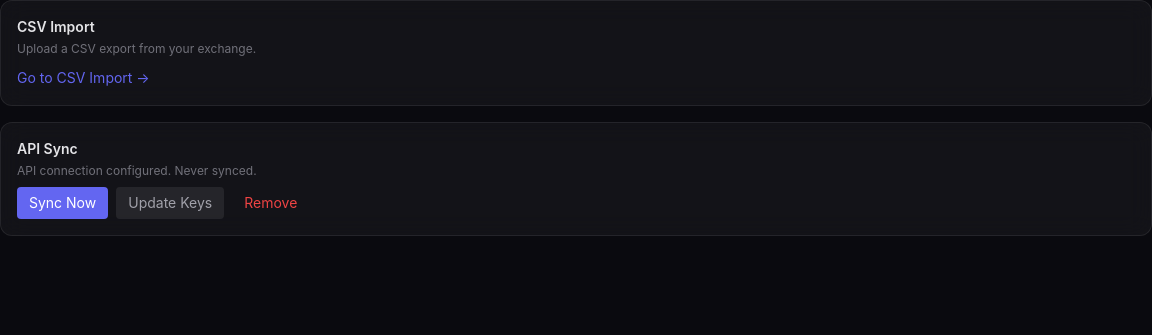
Test: WalletImportSync › syncs exchange and shows result
Click the button "Sync Now".
click(63, 203)  # box top-left (17, 187), bottom-right (108, 219)
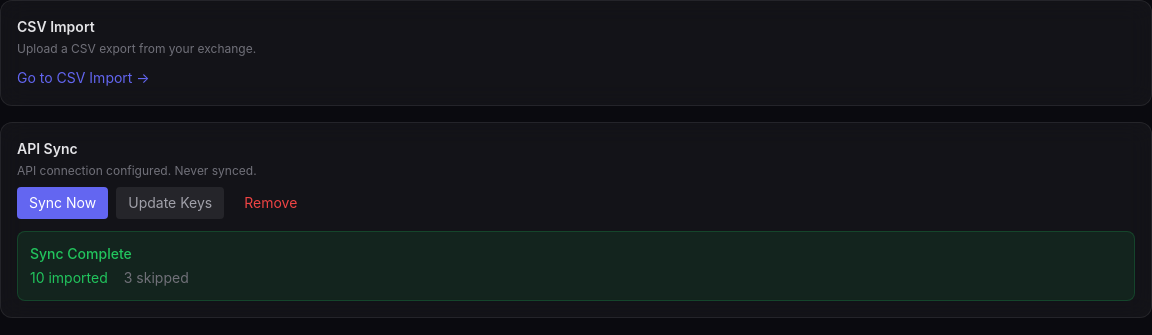
Now the text "Sync Complete" is shown, box top-left (30, 245), bottom-right (132, 262)
Now the text "10 imported" is shown, box top-left (30, 268), bottom-right (108, 288)
Now the text "3 skipped" is shown, box top-left (124, 268), bottom-right (189, 288)
